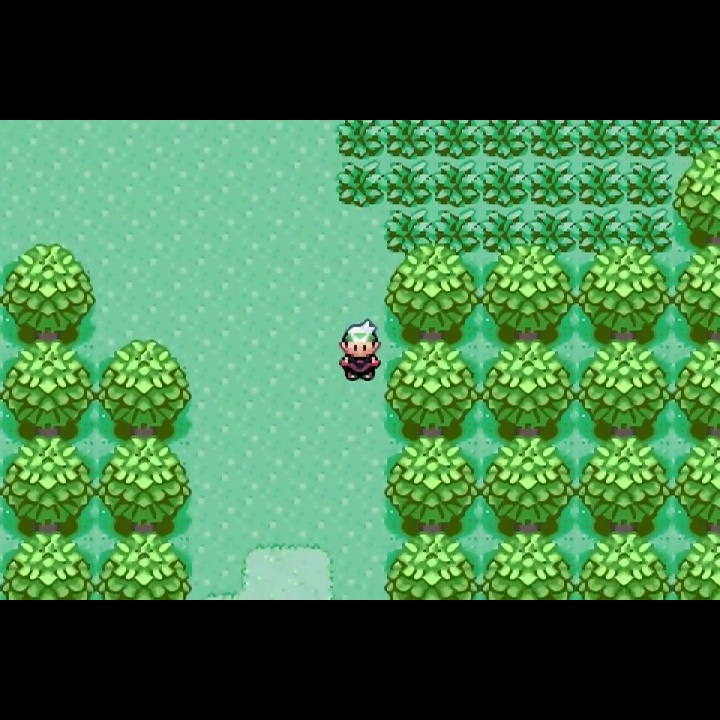grass: (576, 158, 626, 209), (479, 159, 531, 208), (530, 157, 577, 210), (384, 160, 433, 210), (480, 208, 529, 257), (336, 160, 384, 210), (625, 159, 672, 210), (434, 207, 480, 258), (577, 209, 625, 257), (530, 209, 577, 258), (627, 207, 672, 258), (433, 160, 479, 208), (383, 210, 432, 255), (527, 120, 577, 161), (576, 120, 625, 161), (479, 120, 529, 160), (433, 120, 481, 161), (672, 120, 720, 161), (335, 121, 385, 159), (626, 120, 673, 160), (384, 121, 433, 159)
npc: (337, 316, 384, 389)
wall: (478, 434, 578, 533), (97, 339, 194, 441), (95, 435, 192, 535), (480, 244, 577, 343), (384, 245, 480, 345), (384, 434, 480, 534), (1, 243, 96, 344), (576, 433, 671, 534), (384, 340, 481, 438), (1, 341, 97, 439), (1, 439, 97, 537), (575, 338, 673, 434), (479, 339, 575, 436), (575, 244, 671, 341), (575, 529, 671, 600), (98, 530, 193, 600), (480, 530, 575, 600), (384, 531, 480, 599), (1, 531, 96, 599), (673, 432, 720, 533), (671, 148, 720, 243), (673, 242, 720, 341), (673, 338, 720, 436), (671, 530, 720, 599)
